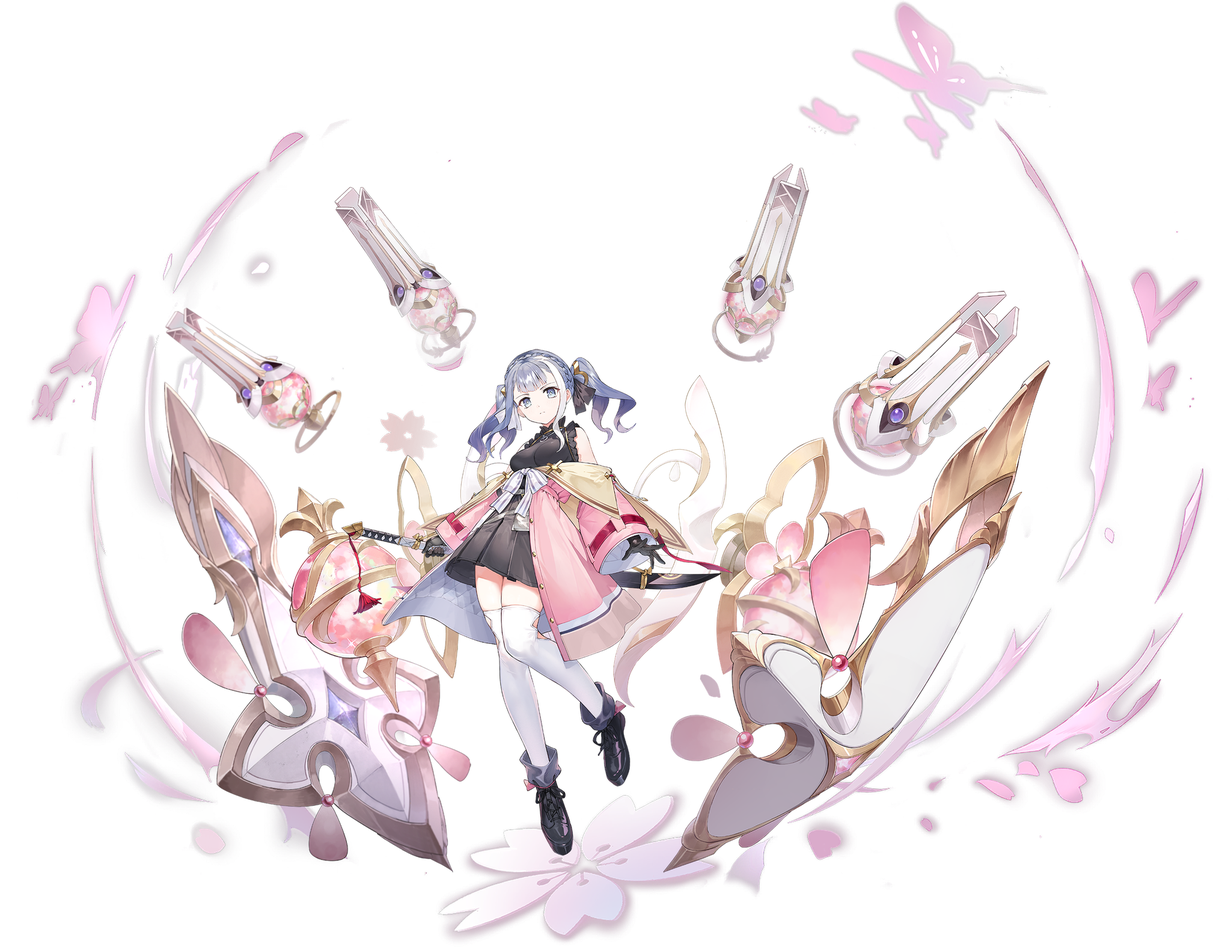person: (679, 1, 1230, 864)
